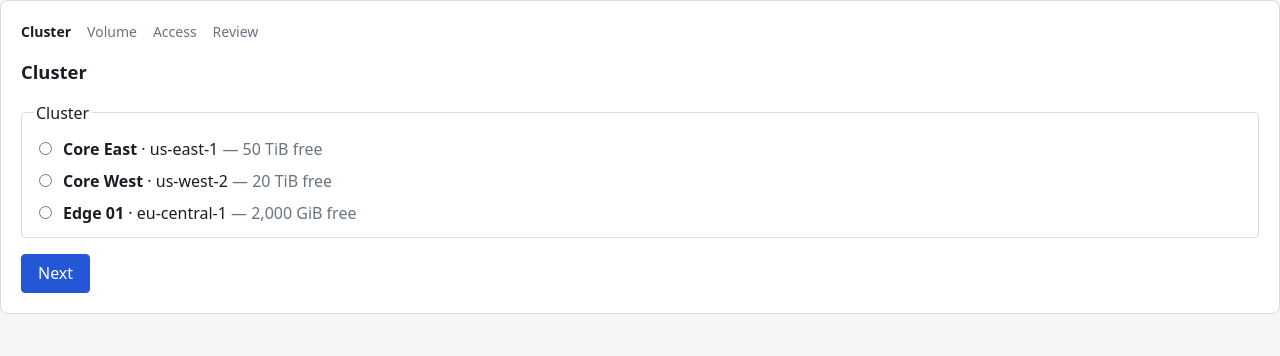
Test: Wizard › blocks Next on step 1 without a selection
This screenshot has width=1280, height=356.
Step 1. Click the button "Next" → {"x": 56, "y": 273}, box [21, 254, 90, 293]
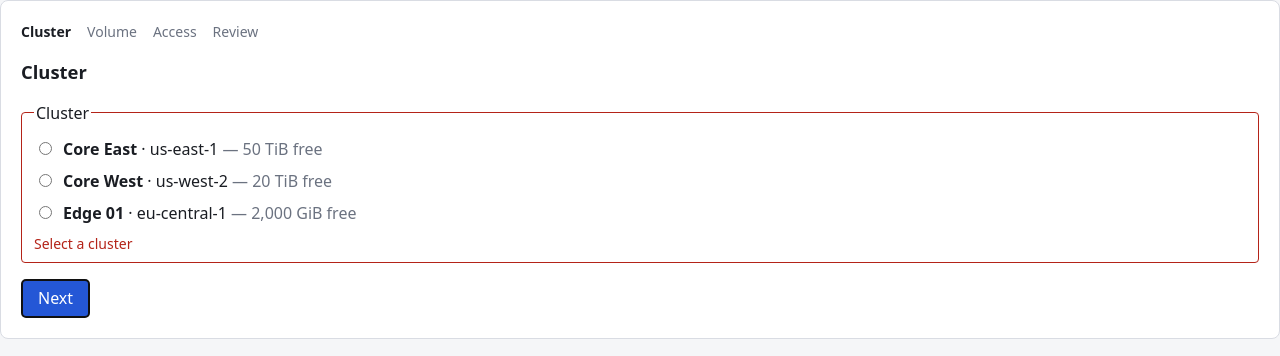
Expected: the heading "Cluster" is shown, [21, 59, 87, 84]
Now the text "Select a cluster" is shown, box [34, 234, 132, 253]
